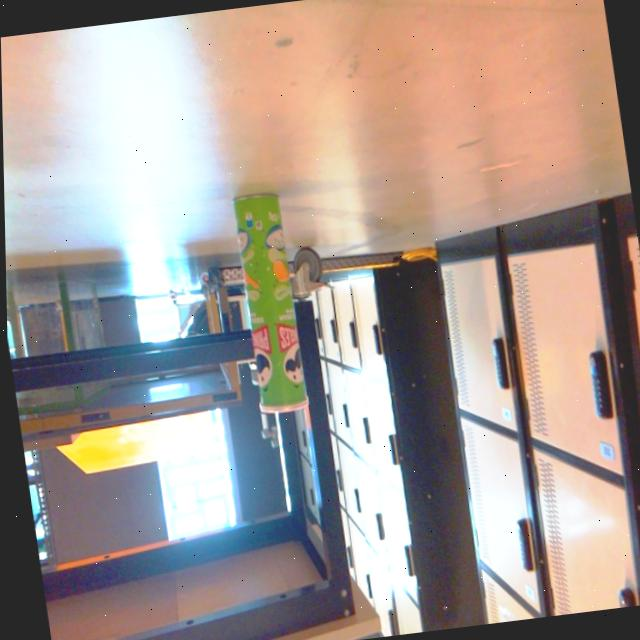greenpringles: (217, 185, 320, 424)
